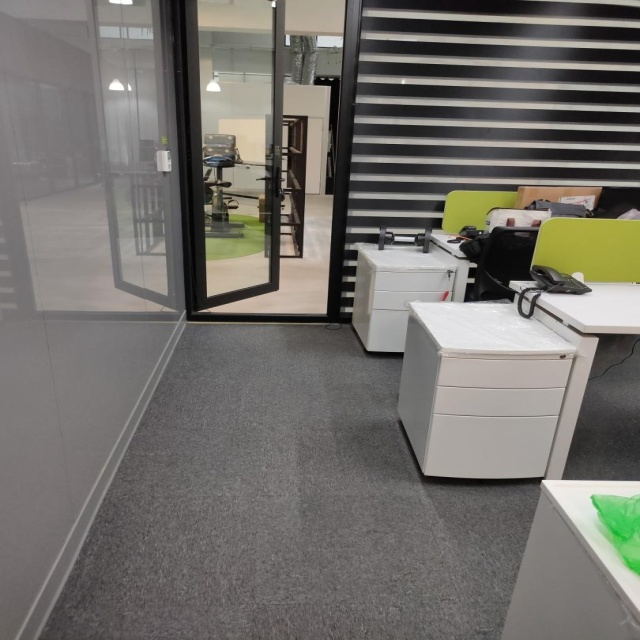03-6kg: (377, 224, 432, 253)
